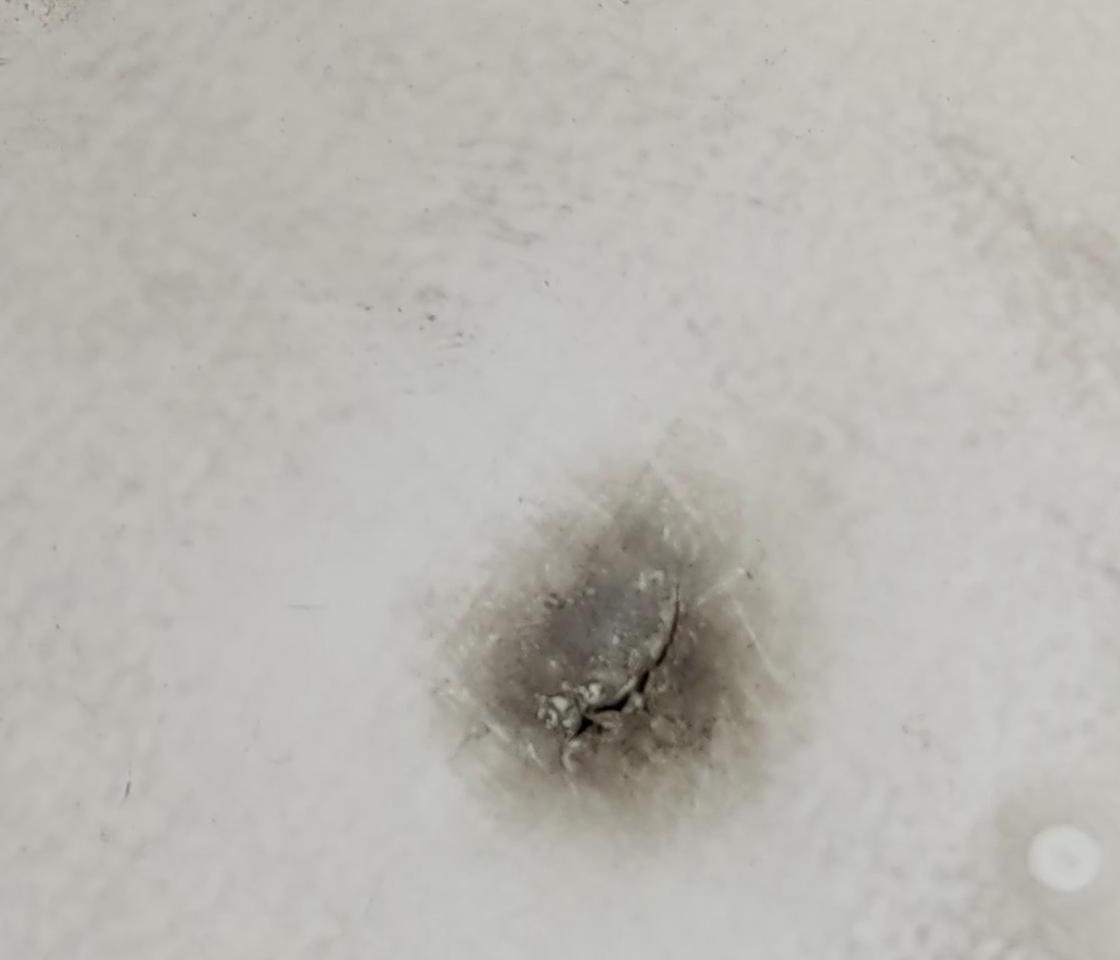rust: (634, 577, 703, 748), (508, 612, 622, 690)
